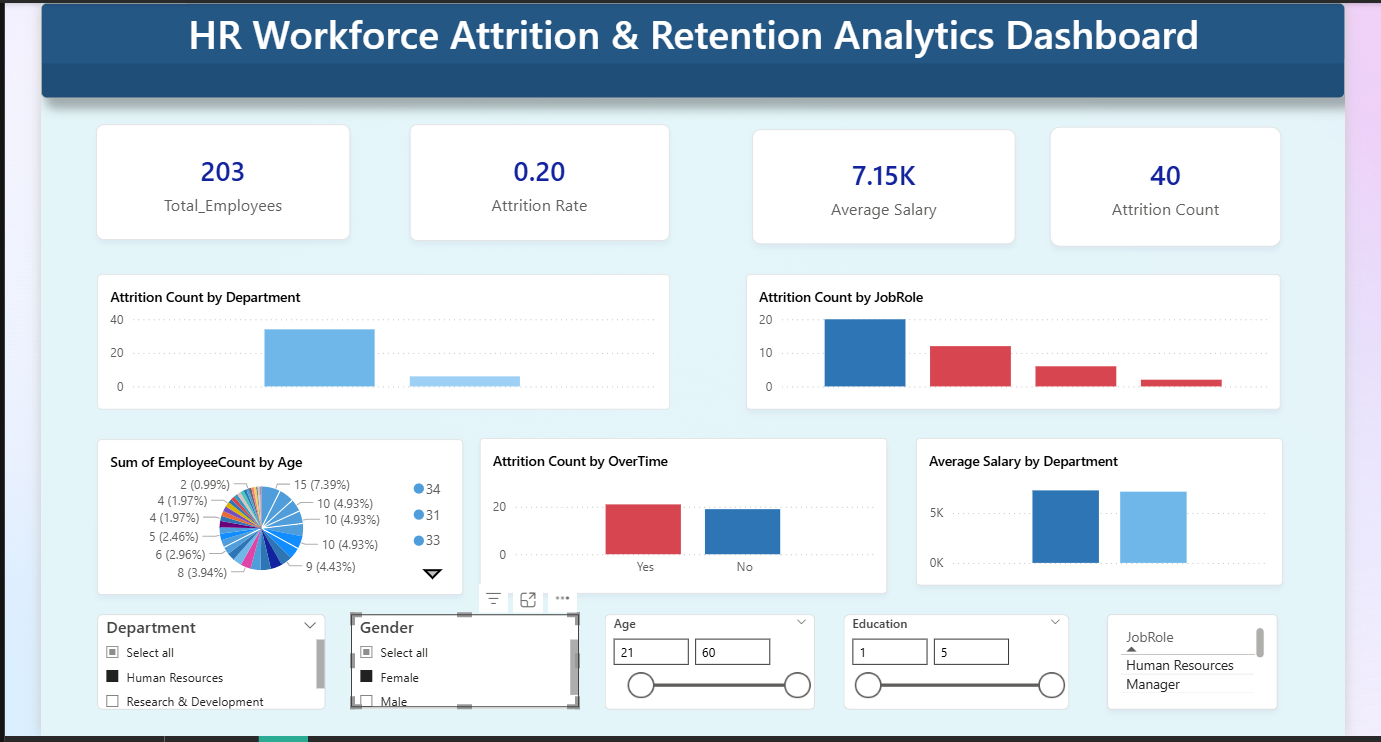

What the dashboard file says about the page in this screenshot:
{"tool":"powerbi","page":{"name":"Page 1","canvas":[1280,720],"ordinal":0},"visuals":[{"type":"card","fields":{"Values":["HR-Employee-Attrition.Total_Employees"]},"box":[53.5,119.4,249.7,113.9],"z":0},{"type":"card","fields":{"Values":["HR-Employee-Attrition.Attrition Count"]},"box":[990,121.2,227.5,117.5],"z":1000},{"type":"card","fields":{"Values":["HR-Employee-Attrition.Attrition Rate"]},"box":[362,119.4,255,114.4],"z":2000},{"type":"card","fields":{"Values":["HR-Employee-Attrition.Average Salary"]},"box":[698.8,123.8,258.8,112.5],"z":3000},{"type":"clusteredColumnChart","fields":{"Category":["HR-Employee-Attrition.Department"],"Y":["HR-Employee-Attrition.Attrition Count"]},"box":[55,266.2,562.5,132.5],"z":4000},{"type":"columnChart","fields":{"Category":["HR-Employee-Attrition.JobRole"],"Y":["HR-Employee-Attrition.Attrition Count"]},"box":[692.5,266.2,525,132.5],"z":5000},{"type":"pieChart","fields":{"Y":["Sum(HR-Employee-Attrition.EmployeeCount)"],"Category":["HR-Employee-Attrition.Age"]},"box":[54.7,427.9,359.5,153],"z":6000},{"type":"columnChart","fields":{"Category":["HR-Employee-Attrition.Department"],"Y":["HR-Employee-Attrition.Average Salary"]},"box":[858.8,427.5,360,145],"z":7000},{"type":"columnChart","fields":{"Category":["HR-Employee-Attrition.OverTime"],"Y":["HR-Employee-Attrition.Attrition Count"]},"box":[431.2,427.5,400,152.5],"z":8000},{"type":"slicer","fields":{"Values":["HR-Employee-Attrition.Age"]},"box":[553.6,599.6,206.5,93.3],"z":9000},{"type":"slicer","fields":{"Values":["HR-Employee-Attrition.Department"]},"box":[55,600,223.8,93.8],"z":10000},{"type":"slicer","fields":{"Values":["HR-Employee-Attrition.Gender"]},"box":[303.8,600,223.8,92.5],"z":11000},{"type":"tableEx","fields":{"Values":["HR-Employee-Attrition.JobRole"]},"box":[1046.2,600,167.5,93.8],"z":12000},{"type":"slicer","fields":{"Values":["HR-Employee-Attrition.Education"]},"box":[787.5,600,221.2,93.8],"z":13000},{"type":"textbox","title":"HR Workforce Attrition & Retention Analytics Dashboard","box":[0,0,1280,93.8],"z":14000}]}

Visuals, with their boxes on the page's 1280x720 design canvas (x1, y1, x2, y2). These are canvas units, not pixel positions in the 1381x742 screenshot, which may show the page scaled, cropped or inside an application window:
card - HR-Employee-Attrition.Total_Employees: region(54, 119, 303, 233)
card - HR-Employee-Attrition.Attrition Count: region(990, 121, 1218, 239)
card - HR-Employee-Attrition.Attrition Rate: region(362, 119, 617, 234)
card - HR-Employee-Attrition.Average Salary: region(699, 124, 958, 236)
clusteredColumnChart - HR-Employee-Attrition.Department x HR-Employee-Attrition.Attrition Count: region(55, 266, 618, 399)
columnChart - HR-Employee-Attrition.JobRole x HR-Employee-Attrition.Attrition Count: region(692, 266, 1218, 399)
pieChart - Sum(HR-Employee-Attrition.EmployeeCount) x HR-Employee-Attrition.Age: region(55, 428, 414, 581)
columnChart - HR-Employee-Attrition.Department x HR-Employee-Attrition.Average Salary: region(859, 428, 1219, 572)
columnChart - HR-Employee-Attrition.OverTime x HR-Employee-Attrition.Attrition Count: region(431, 428, 831, 580)
slicer - HR-Employee-Attrition.Age: region(554, 600, 760, 693)
slicer - HR-Employee-Attrition.Department: region(55, 600, 279, 694)
slicer - HR-Employee-Attrition.Gender: region(304, 600, 528, 692)
tableEx - HR-Employee-Attrition.JobRole: region(1046, 600, 1214, 694)
slicer - HR-Employee-Attrition.Education: region(788, 600, 1009, 694)
"HR Workforce Attrition & Retention Analytics Dashboard" textbox: region(0, 0, 1280, 94)
